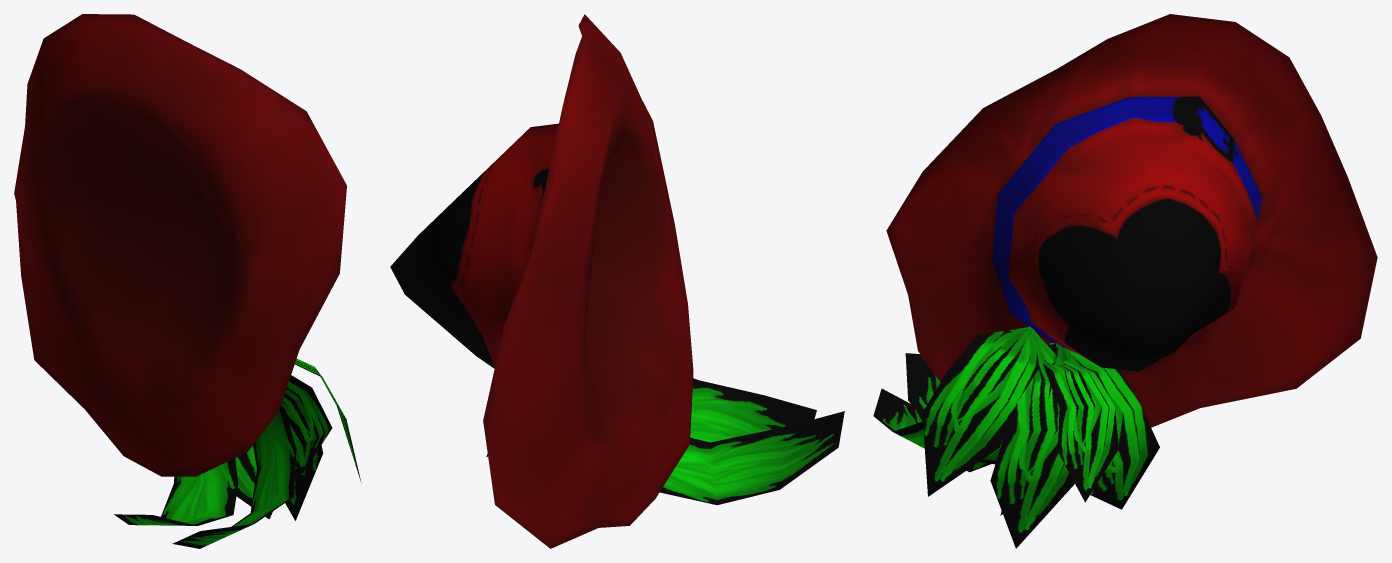
3 renders of one model, left to right at view 1: azimuth 30°, elevation 25°; view 2: azimuth 150°, elevation 25°; view 3: azimuth 270°, elevation 25°, orthographic. The views are drawn at different scales.
Parts seen in each view (by area): view 1: L1106; view 2: L1106; view 3: L1106.
Part boxes in pixels (x1=…): L1106: x1=14, y1=14, x2=361, y2=548; L1106: x1=390, y1=14, x2=844, y2=548; L1106: x1=873, y1=14, x2=1377, y2=548.
Size of the model in its own units: 0.6459 by 1 by 0.9313.
